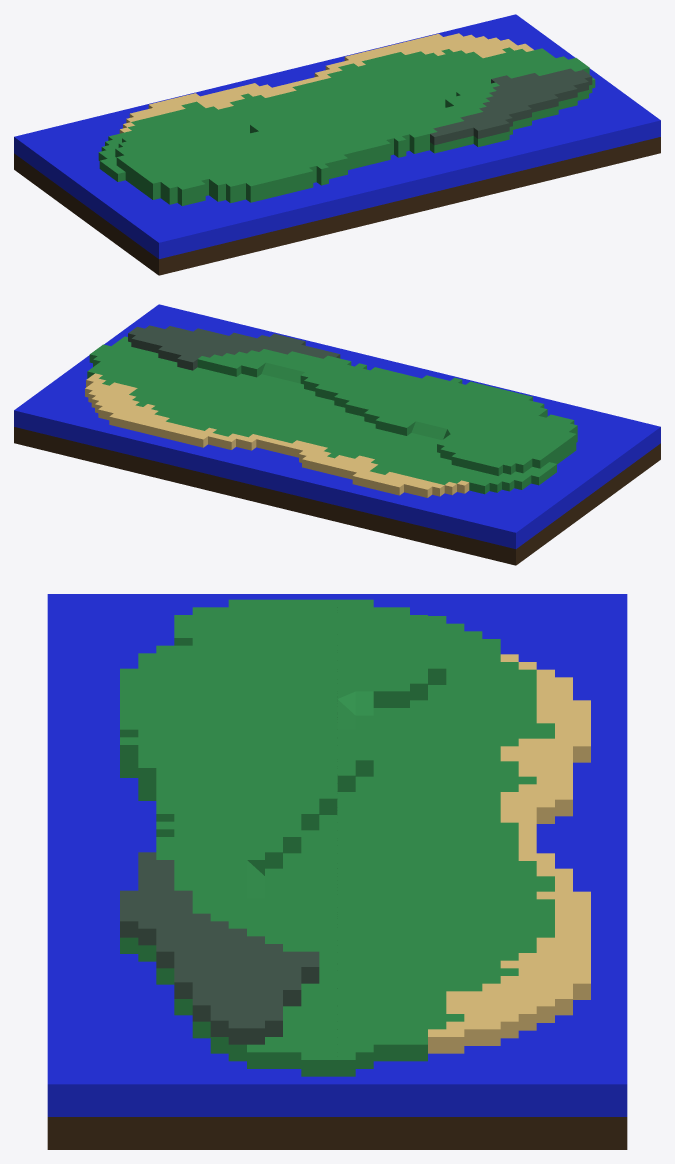
Rendered from Field_Test1.fbx.
The picture shows the model from 3 angles, top to bottom: view 1: azimuth 30°, elevation 25°; view 2: azimuth 150°, elevation 25°; view 3: azimuth 270°, elevation 25°; orthographic projection. The views are drawn at different scales.
Parts seen in each view (by area): view 1: 큐브, Cube.2048, Cube.3302, 큐브.001; view 2: 큐브, Cube.2048, Cube.3302, 큐브.001; view 3: 큐브, Cube.2048, Cube.3302, 큐브.001.
Part boxes in pixels (bbox=[...]): 큐브: bbox=[14, 14, 660, 258]; Cube.2048: bbox=[98, 33, 595, 206]; Cube.3302: bbox=[115, 68, 592, 197]; 큐브.001: bbox=[14, 137, 660, 275]; 큐브: bbox=[14, 304, 660, 548]; Cube.2048: bbox=[85, 336, 577, 497]; Cube.3302: bbox=[128, 325, 577, 475]; 큐브.001: bbox=[14, 427, 660, 565]; 큐브: bbox=[47, 594, 627, 1116]; Cube.2048: bbox=[120, 616, 590, 1076]; Cube.3302: bbox=[120, 599, 446, 1044]; 큐브.001: bbox=[47, 1117, 627, 1149].
Size of the model in its own units: 12800 by 1200 by 6400.
